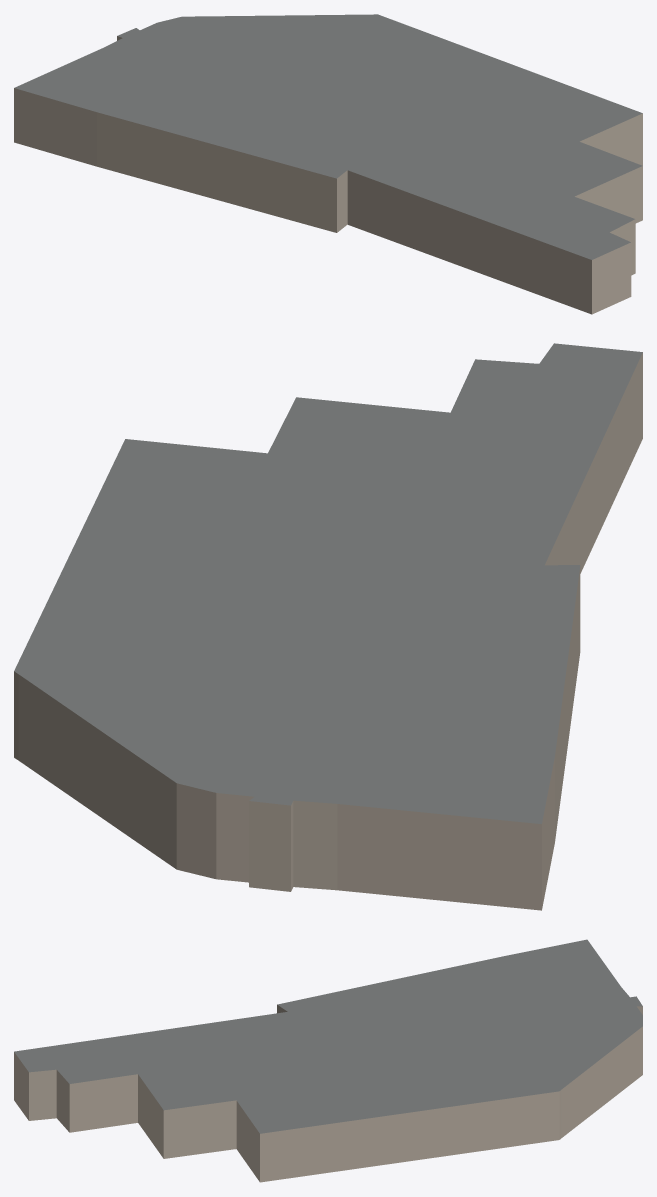
File: df1939a6ae08-chunk-1194_11845.glb
3 renders of one model, top to bottom at view 1: azimuth 30°, elevation 25°; view 2: azimuth 150°, elevation 25°; view 3: azimuth 270°, elevation 25°, orthographic. The views are drawn at different scales.
Visible parts, largest first — view 1: building_163566; view 2: building_163566; view 3: building_163566.
Part boxes in pixels (x1,y1,x2,y2): building_163566: (14, 14, 642, 314); building_163566: (14, 343, 642, 910); building_163566: (14, 939, 642, 1182).
Size of the model in its own units: 96.77 by 11.3 by 132.
